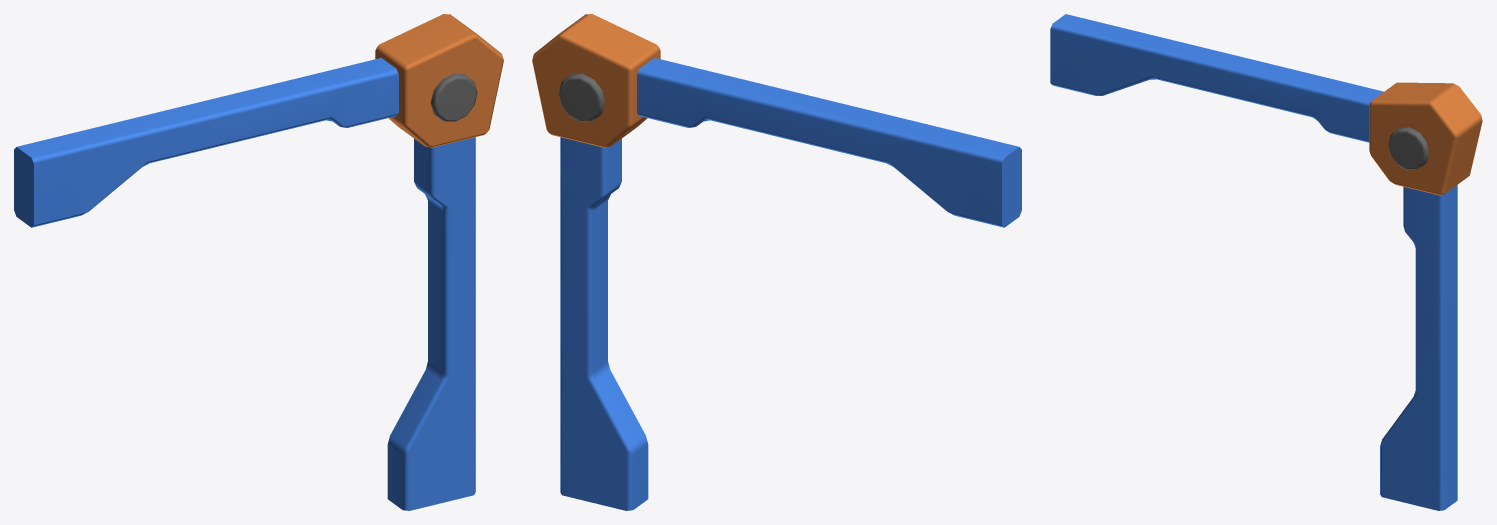
File: angle_001.fbx
3 views of the same model, side by side, from view 1: azimuth 30°, elevation 25°; view 2: azimuth 150°, elevation 25°; view 3: azimuth 330°, elevation 25° (orthographic). The views are drawn at different scales.
Visible parts, largest first — view 1: angle_001; view 2: angle_001; view 3: angle_001.
Boxes of the visible parts, x1,y1,x2,y2 form: angle_001: [14, 14, 503, 510]; angle_001: [532, 14, 1021, 510]; angle_001: [1050, 14, 1482, 510].
Size of the model in its own units: 962 by 141 by 918.
